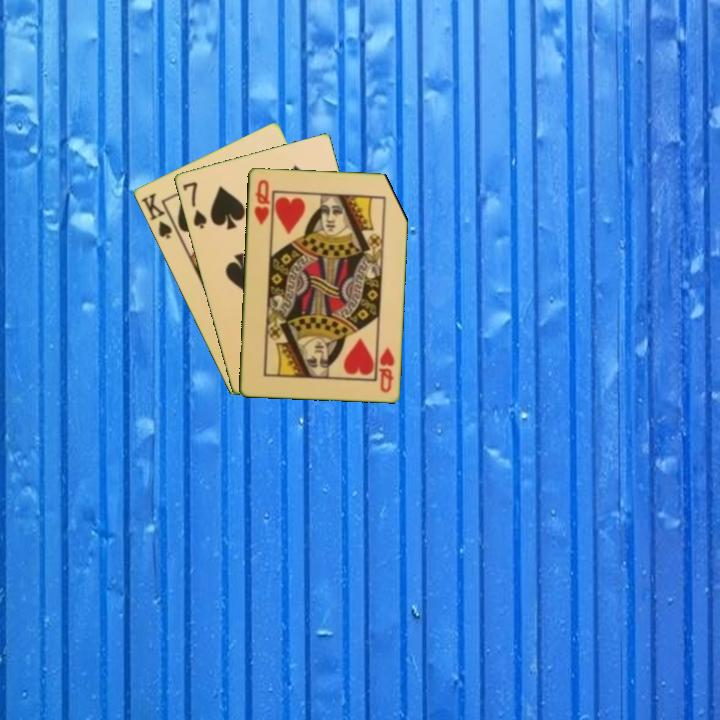7s: (179, 178, 209, 232)
Ks: (137, 189, 175, 242)
Qh: (375, 343, 397, 395), (250, 176, 272, 227)
